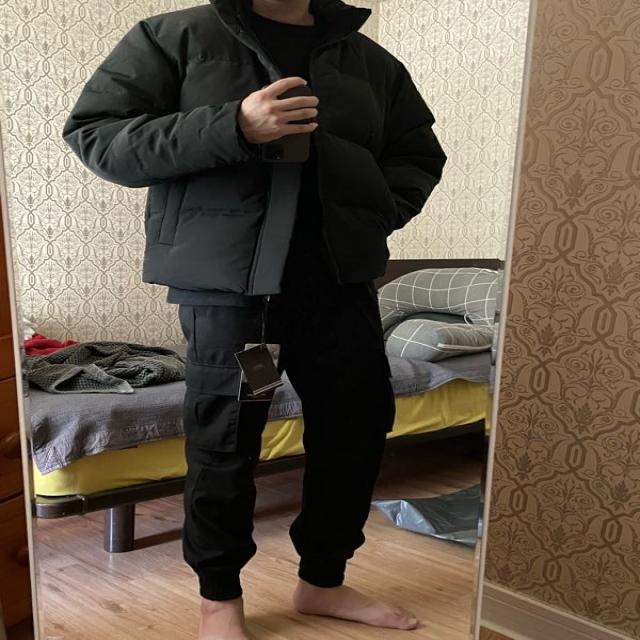padding: (65, 0, 448, 296)
trainingpants: (180, 288, 392, 596)
